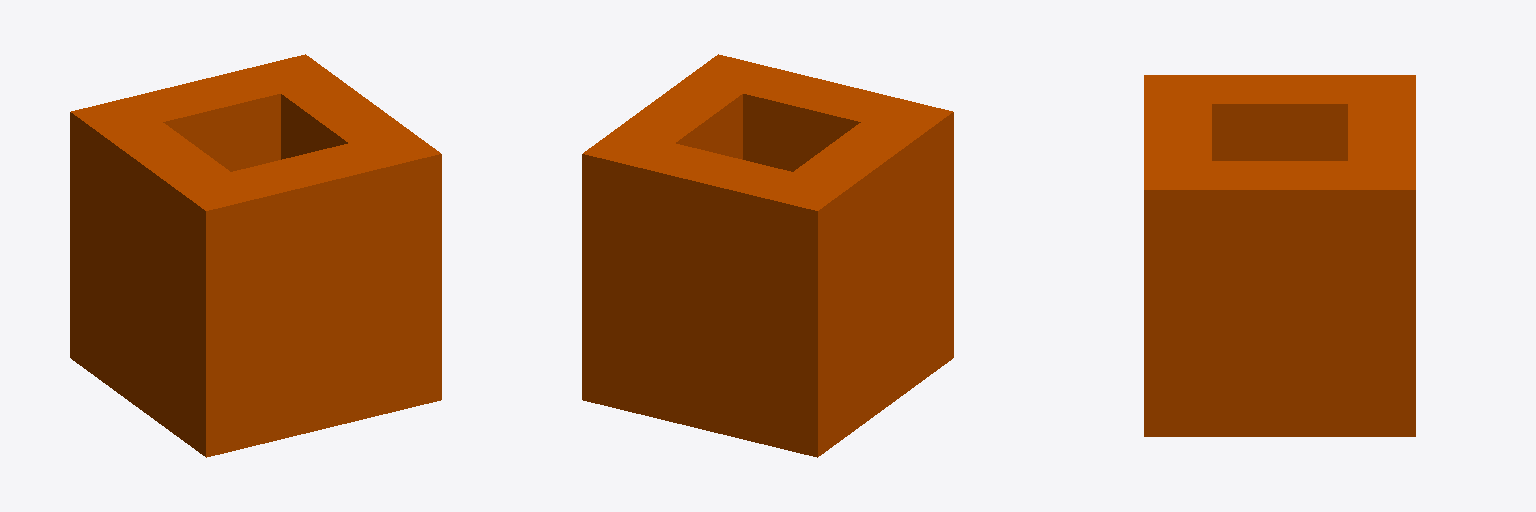
File: teapot.obj
3 views of the same model, side by side, from view 1: azimuth 30°, elevation 25°; view 2: azimuth 150°, elevation 25°; view 3: azimuth 270°, elevation 25° (orthographic).
Visible parts, largest first — view 1: Cube; view 2: Cube; view 3: Cube.
Boxes of the visible parts, x1,y1,x2,y2 form: Cube: [70, 54, 441, 457]; Cube: [582, 54, 953, 457]; Cube: [1144, 75, 1415, 436].
Size of the model in its own units: 1 by 1 by 1.